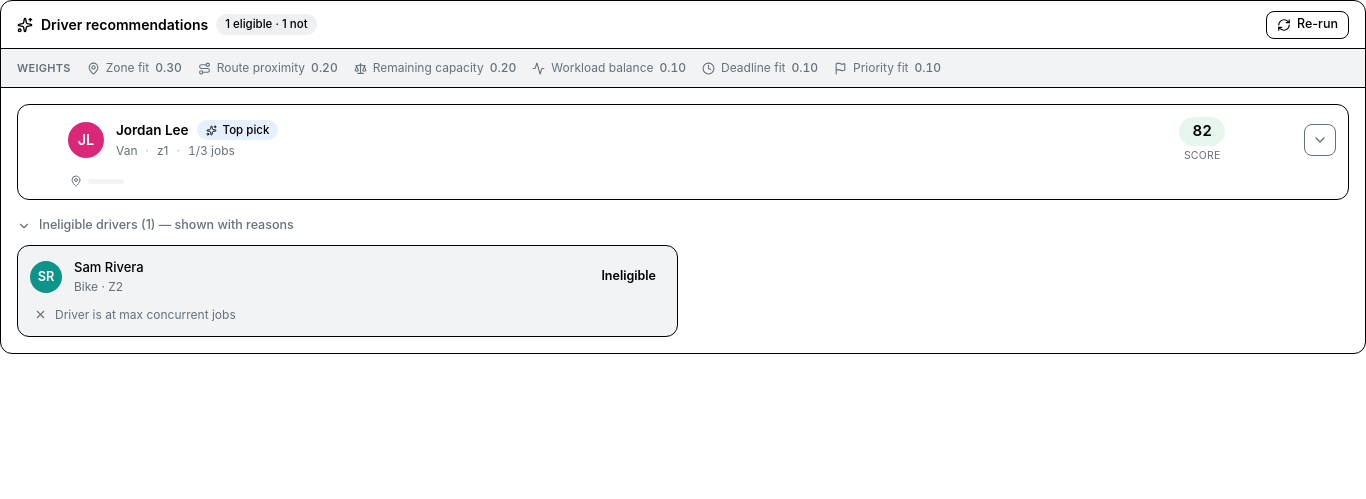
Test: renders ranked candidates and ineligible reasons
Expected: the text "82" is shown, [1179,117,1225,146]
Expected: the text "Top pick" is shown, [196,120,278,140]
Click the button named "toggle breakdown". click: click(1320, 140)
box: [1304,124,1336,156]
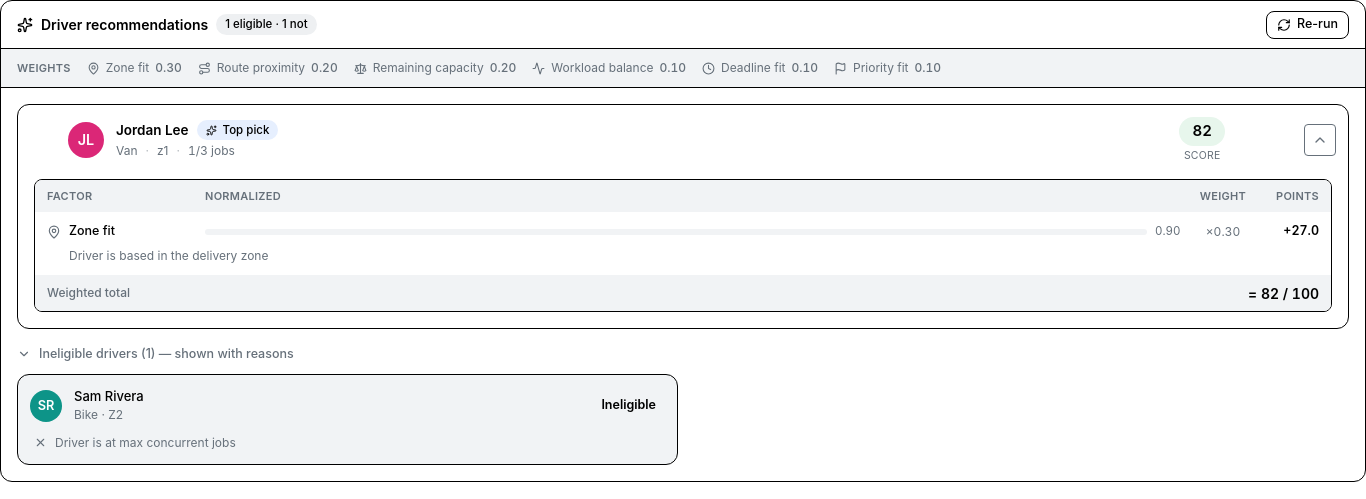
Expected: the text "Driver is based in the delivery zone" is shown, [69,248,268,263]
